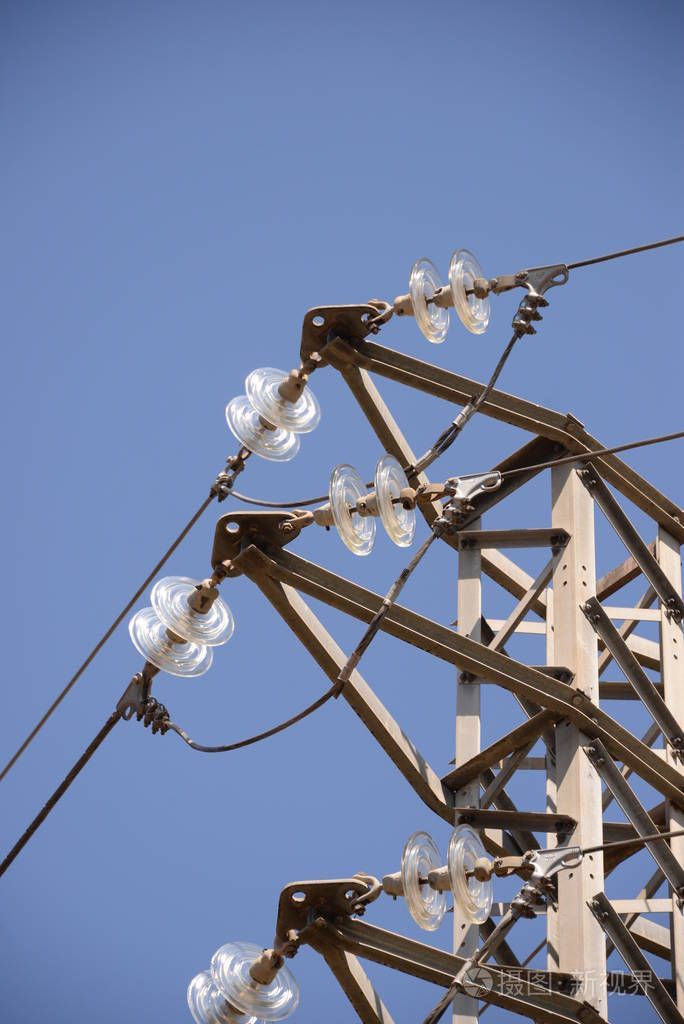insulator: (125, 575, 232, 679), (181, 939, 301, 1024), (404, 823, 495, 933), (224, 360, 316, 462), (328, 456, 419, 556), (412, 246, 491, 344)
